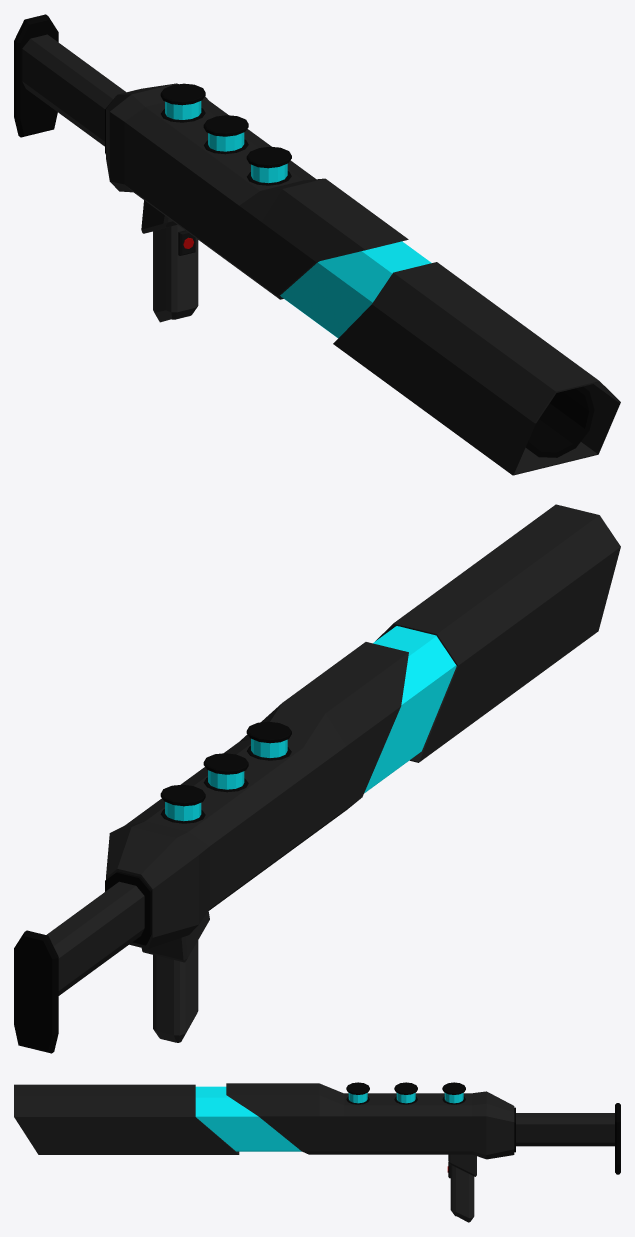
File: Shotgun.fbx
The picture shows the model from 3 angles, top to bottom: view 1: azimuth 30°, elevation 25°; view 2: azimuth 150°, elevation 25°; view 3: azimuth 270°, elevation 25°; orthographic projection. The views are drawn at different scales.
Visible parts, largest first — view 1: Shotgun; view 2: Shotgun; view 3: Shotgun.
Boxes of the visible parts, <box> form: Shotgun: <box>14,14,620,475</box>; Shotgun: <box>14,504,620,1053</box>; Shotgun: <box>14,1082,620,1222</box>.
Bounding box in the file's own units: 10.25 × 25.93 × 108.
